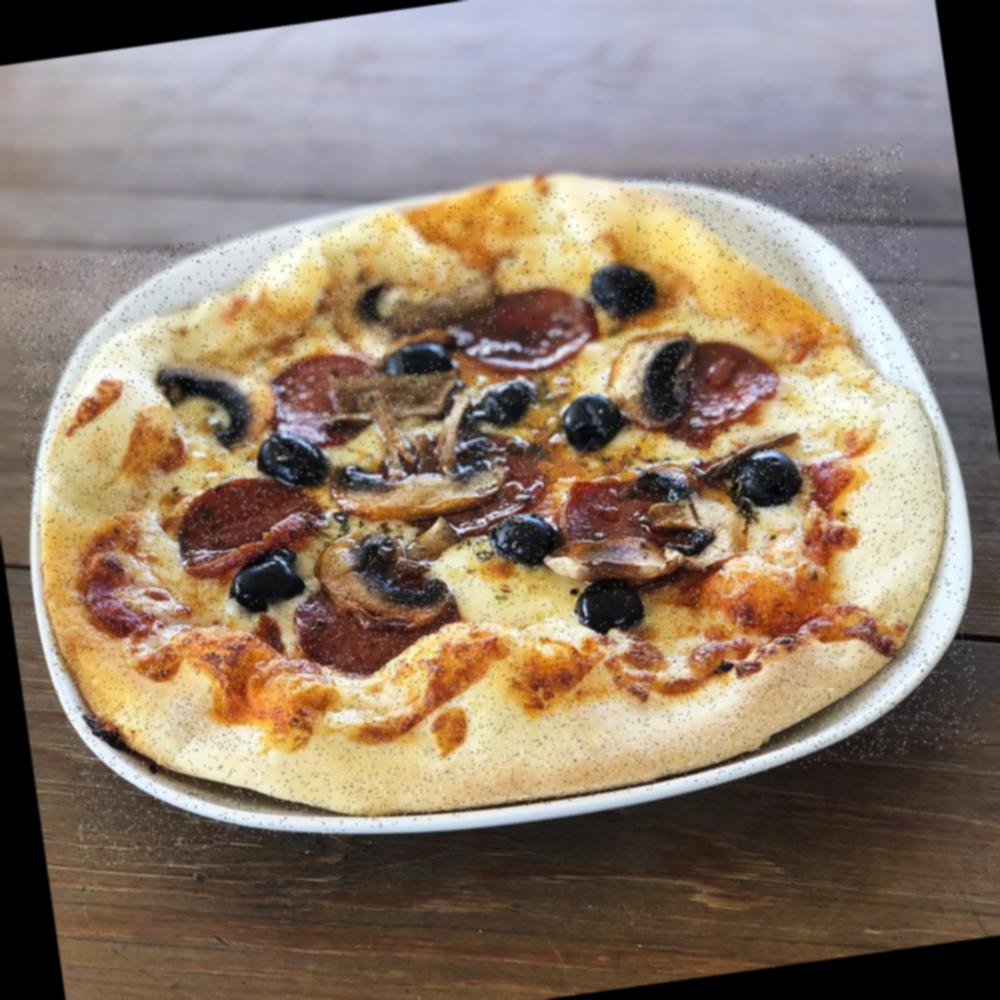Mushroom: (312, 522, 478, 639), (332, 438, 511, 526), (154, 344, 277, 451), (337, 266, 499, 342), (323, 357, 459, 430), (550, 525, 689, 595), (607, 328, 701, 430), (652, 486, 749, 574)
Olives: (590, 254, 666, 331), (568, 575, 652, 640), (488, 509, 562, 575), (254, 430, 332, 491), (225, 558, 308, 614), (561, 387, 625, 456), (731, 446, 800, 507), (380, 334, 454, 388), (470, 380, 536, 432)
Pepperoni: (290, 574, 470, 686), (174, 475, 320, 576), (451, 283, 598, 379), (259, 346, 378, 458), (652, 334, 780, 433), (550, 470, 658, 556)
Pizza: (0, 141, 986, 869)
